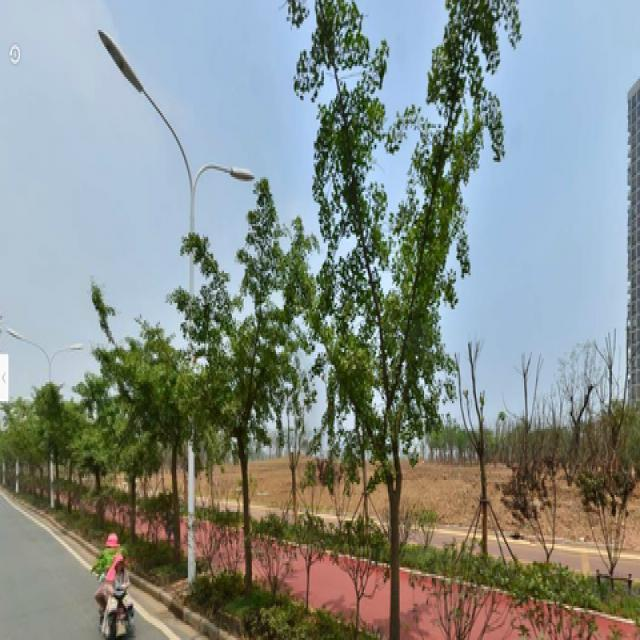gink: (292, 2, 493, 629)
